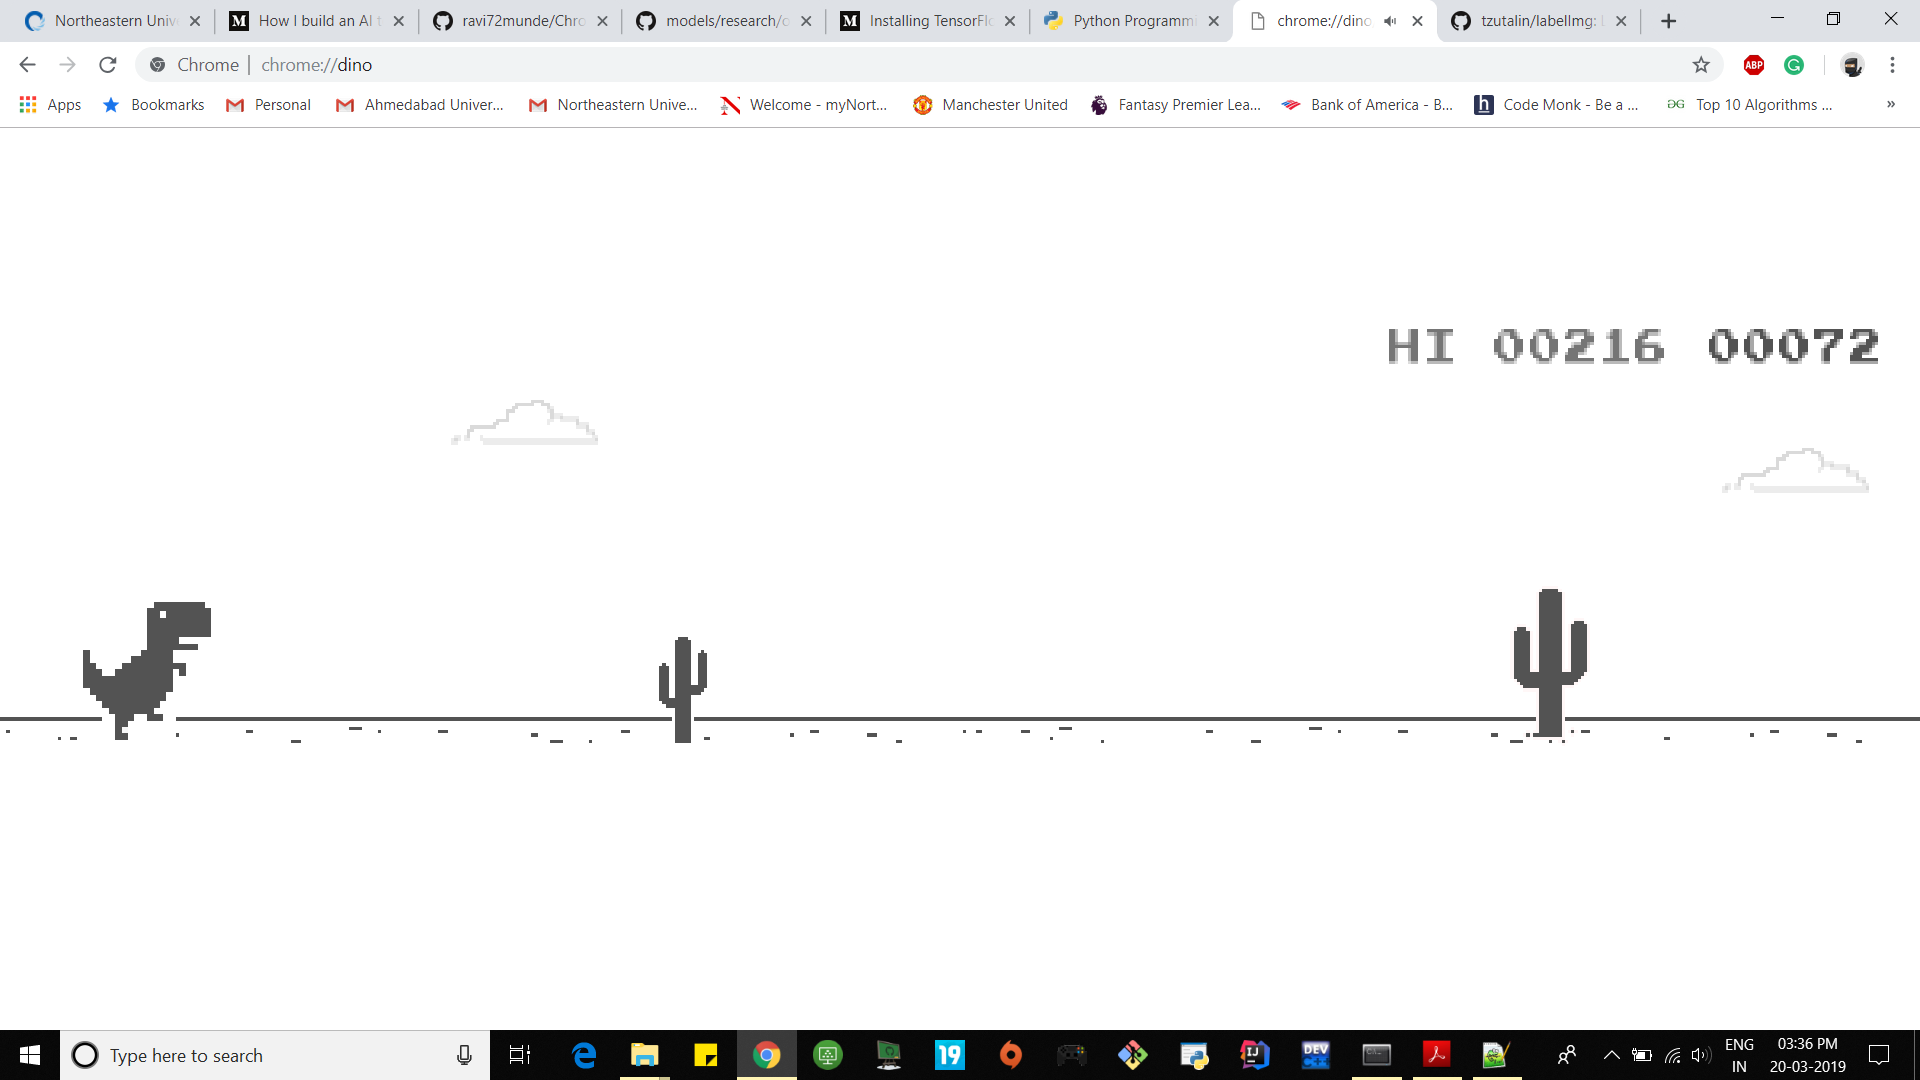cactus-1: (1513, 587, 1589, 740)
cactus-small: (657, 636, 707, 744)
dino: (82, 600, 212, 741)
